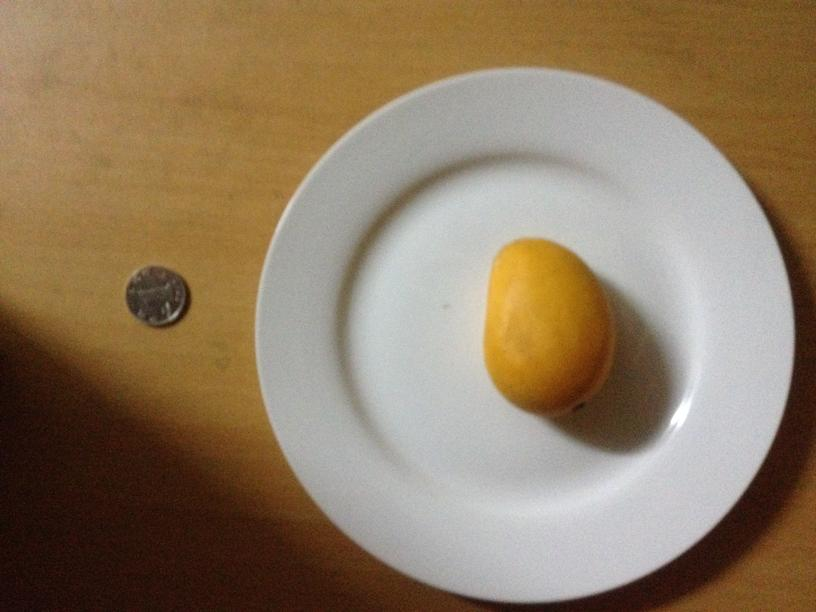coin: (122, 262, 188, 327)
mango: (484, 238, 617, 417)
